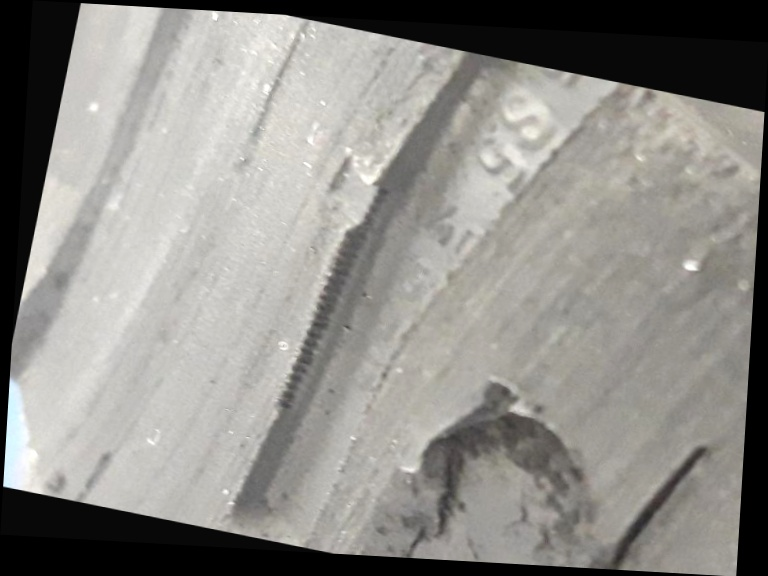temoin:0: (291, 137, 409, 258)
